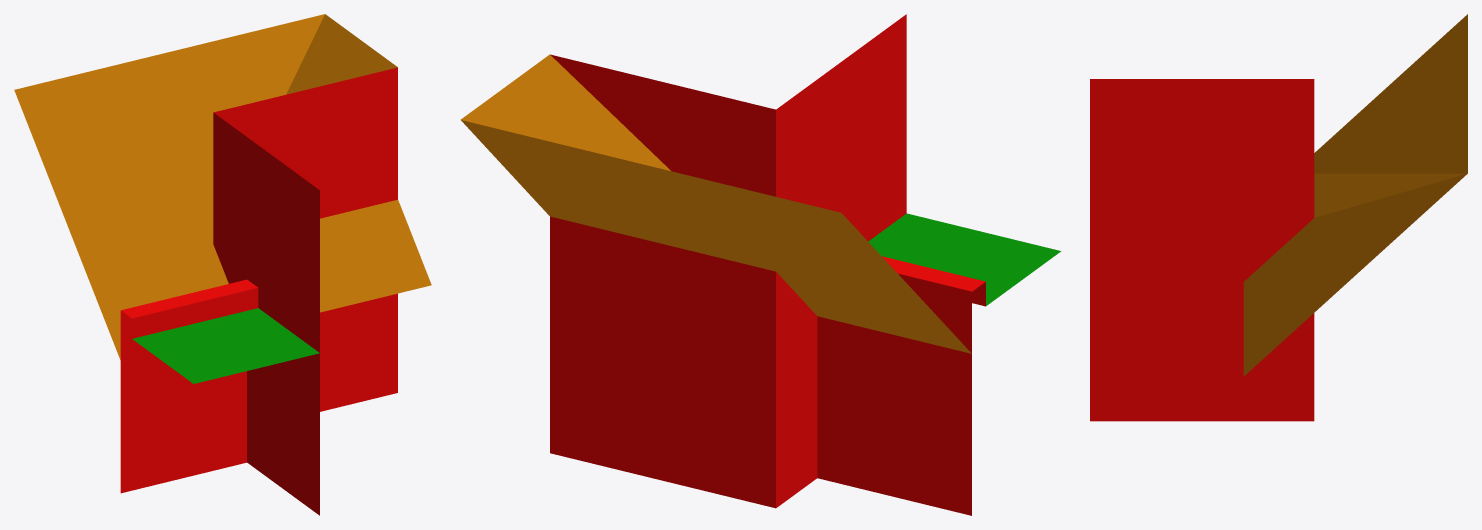
3 renders of one model, left to right at view 1: azimuth 30°, elevation 25°; view 2: azimuth 150°, elevation 25°; view 3: azimuth 270°, elevation 25°, orthographic. The views are drawn at different scales.
Parts seen in each view (by area): view 1: None_S_A_E_A_S_W_E_E_None; view 2: None_S_A_E_A_S_W_E_E_None; view 3: None_S_A_E_A_S_W_E_E_None.
Boxes of the visible parts, bbox=[...] form: None_S_A_E_A_S_W_E_E_None: bbox=[14, 14, 431, 515]; None_S_A_E_A_S_W_E_E_None: bbox=[460, 14, 1061, 515]; None_S_A_E_A_S_W_E_E_None: bbox=[1090, 14, 1467, 421].
Bounding box in the file's own units: 100 × 100 × 100.
